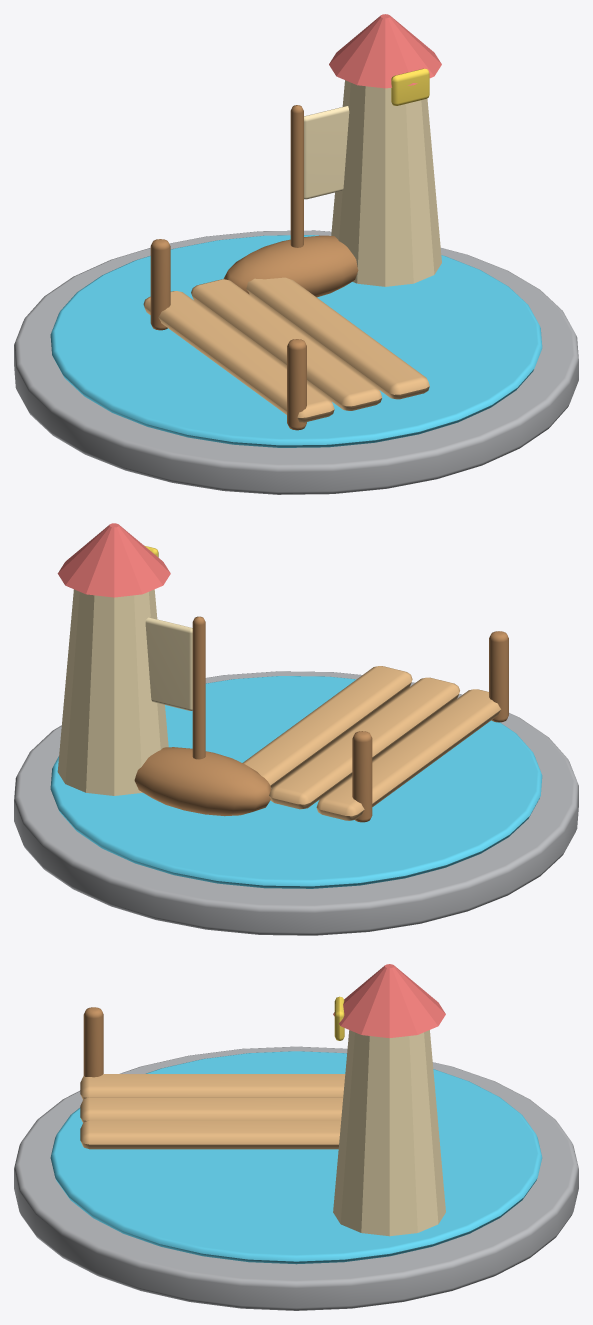
Rendered from region_harbor.glb.
3 renders of one model, top to bottom at view 1: azimuth 30°, elevation 25°; view 2: azimuth 150°, elevation 25°; view 3: azimuth 270°, elevation 25°, orthographic.
Visible parts, largest first — view 1: harbor water, harbor shore, Cone, pier plank.002, pier plank.001, pier plank, trading boat, Cone.001, boat sail, boat mast, pier support.001, pier support (+1 smaller); view 2: harbor water, harbor shore, Cone, pier plank.001, trading boat, pier plank, pier plank.002, Cone.001, boat sail, boat mast, pier support.001, pier support; view 3: harbor water, harbor shore, Cone, pier plank.002, pier plank.001, pier plank, Cone.001, pier support.
Boxes of the visible parts, x1,y1,x2,y2 form: harbor water: (50,235,542,447); harbor shore: (14,230,578,494); Cone: (331,80,441,286); pier plank.002: (246,277,429,399); pier plank.001: (191,279,382,410); pier plank: (143,291,334,422); trading boat: (223,235,358,297); Cone.001: (329,14,441,88); boat sail: (304,106,349,199); boat mast: (290,105,303,247); pier support.001: (150,239,170,330); pier support: (287,339,306,430); harbor water: (50,676,542,888); harbor shore: (14,671,578,935); Cone: (57,589,168,795); pier plank.001: (269,677,459,809); trading boat: (134,747,271,816); pier plank: (316,689,500,820); pier plank.002: (242,666,412,787); Cone.001: (57,523,170,597); boat sail: (145,617,192,710); boat mast: (192,616,205,759); pier support.001: (352,731,372,822); pier support: (489,631,508,722); harbor water: (50,1051,542,1264); harbor shore: (14,1046,578,1310); Cone: (333,1030,445,1236); pier plank.002: (80,1120,341,1149); pier plank.001: (80,1097,343,1122); pier plank: (80,1074,345,1099); Cone.001: (333,964,445,1038); pier support: (83,1007,103,1077).
Size of the model in its own units: 3.4 by 1.95 by 3.4.
